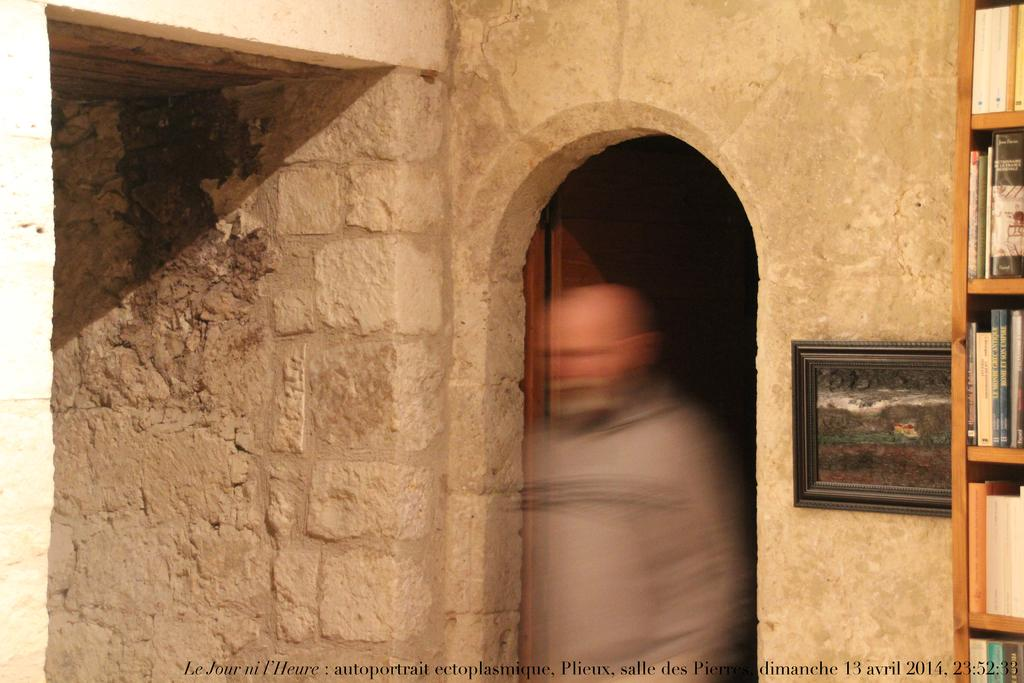Sem Máscara: (540, 311, 611, 412)
